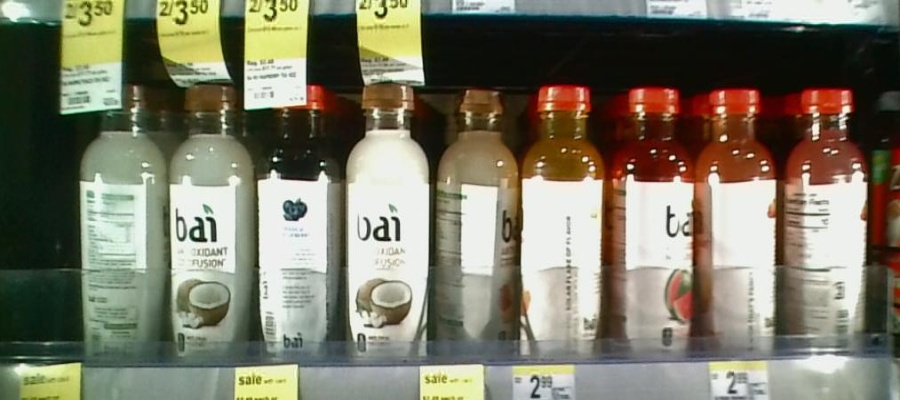bottle: (341, 77, 432, 369), (80, 78, 170, 367), (255, 80, 339, 368), (522, 79, 608, 356), (697, 79, 779, 361), (784, 88, 869, 358), (612, 80, 695, 356), (171, 85, 249, 367), (436, 83, 517, 354)
